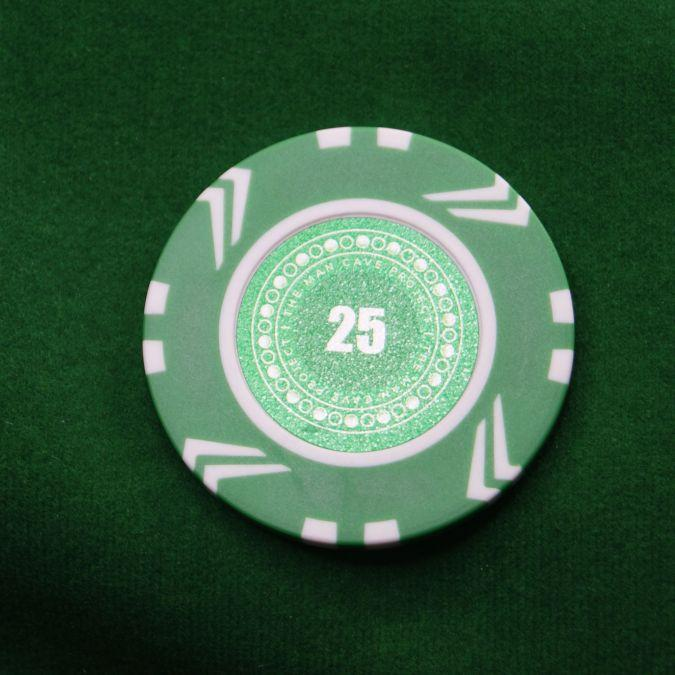chip-green: (141, 127, 575, 547), (343, 479, 388, 512)
